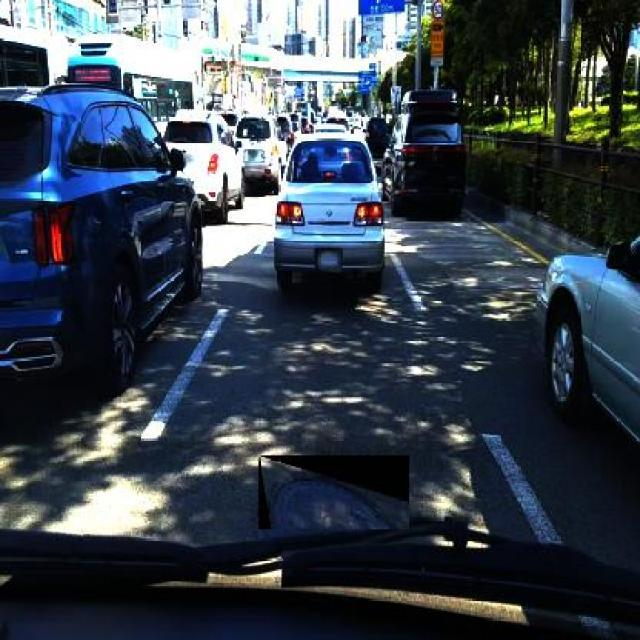Manhole: (258, 456, 409, 530)
